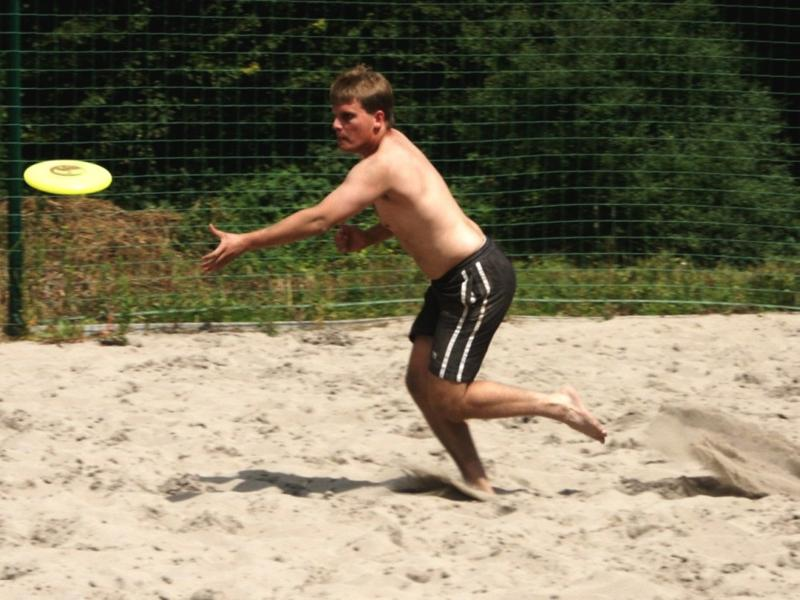person: (199, 66, 609, 505)
